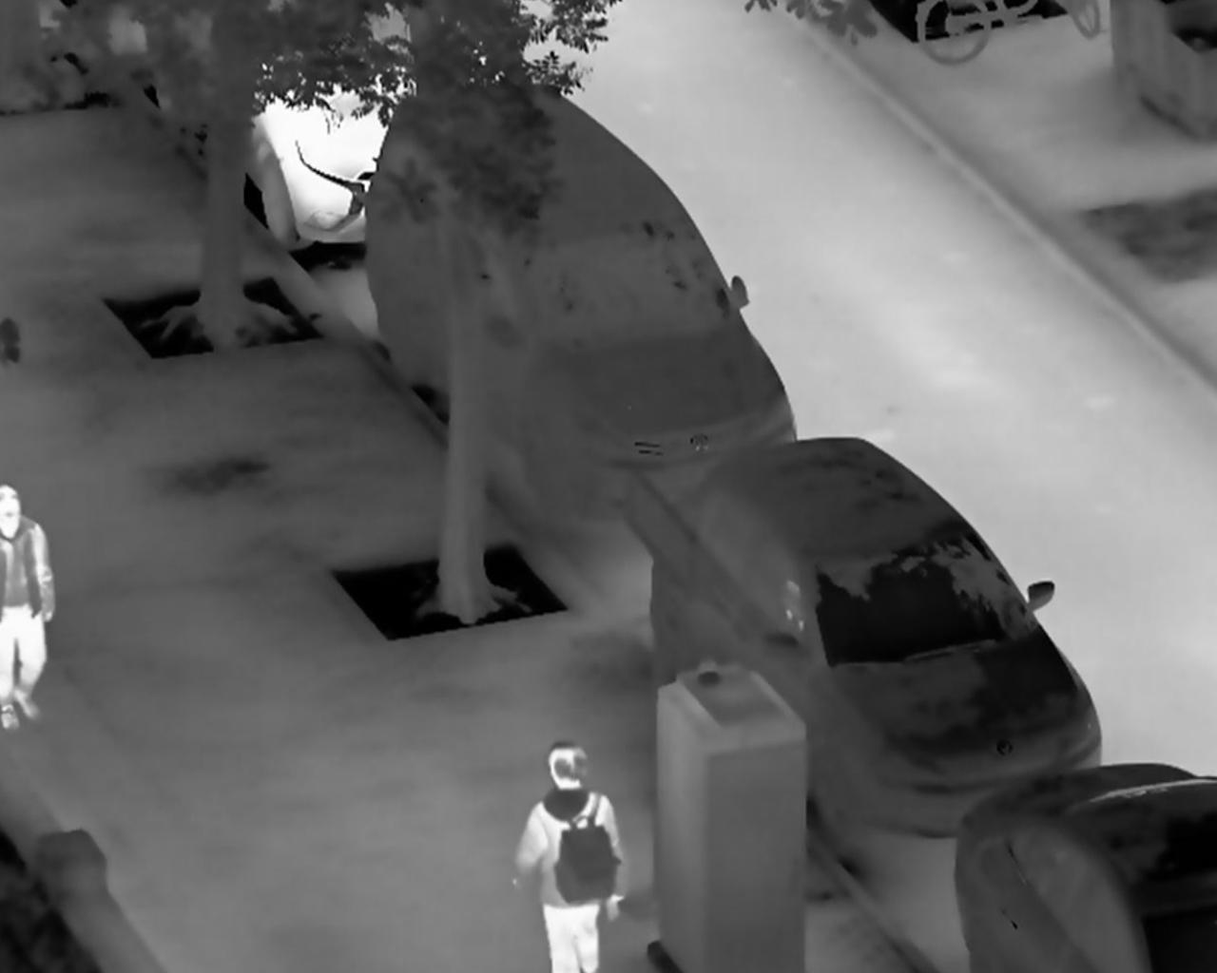person: (509, 742, 628, 973)
